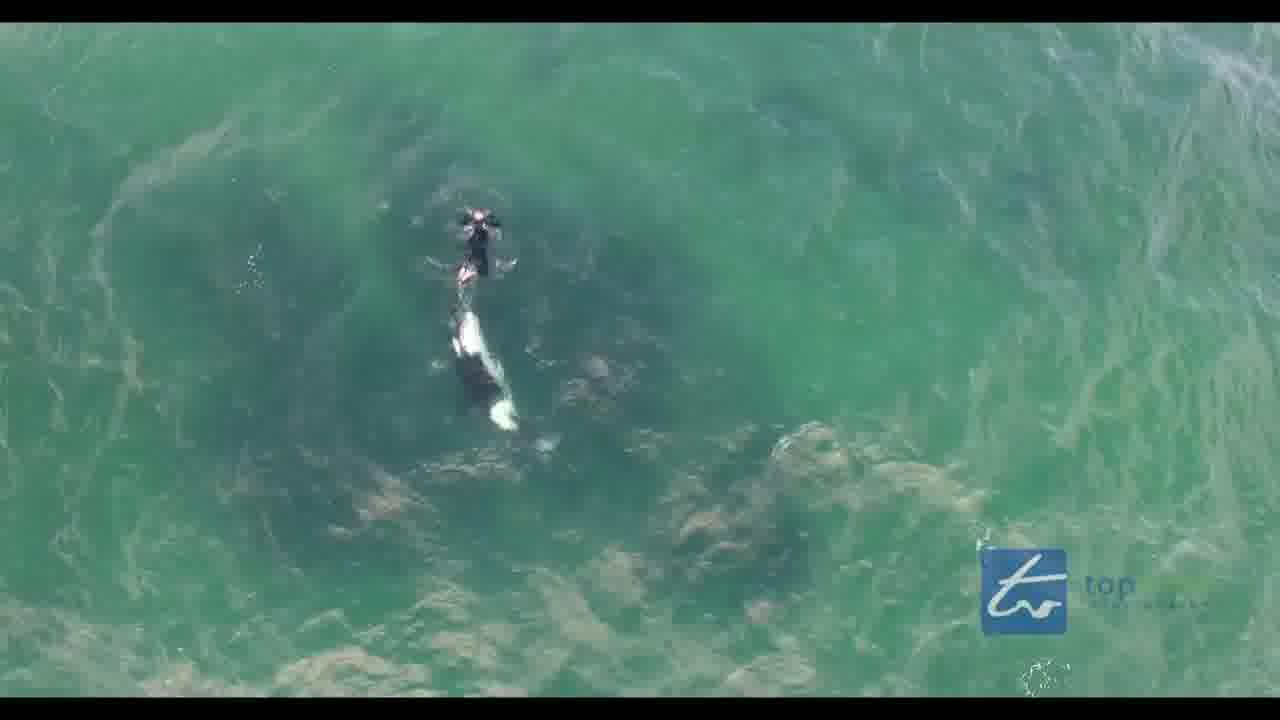human: (455, 198, 504, 282)
